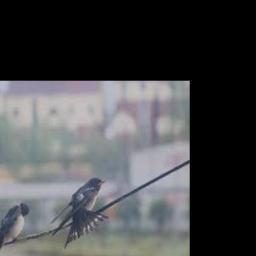Swallow: (50, 177, 108, 249), (0, 202, 29, 256)
